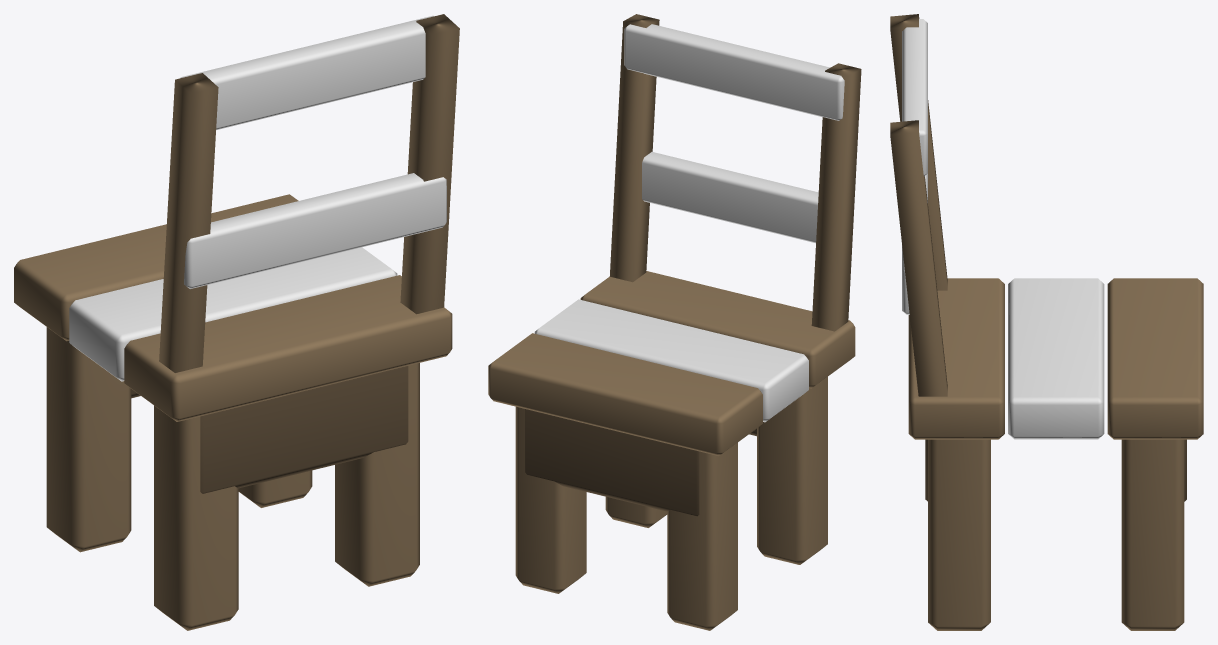
The model's file is WoodChair62.fbx.
3 renders of one model, left to right at view 1: azimuth 30°, elevation 25°; view 2: azimuth 150°, elevation 25°; view 3: azimuth 270°, elevation 25°, orthographic. The views are drawn at different scales.
Visible parts, largest first — view 1: WoodChair62; view 2: WoodChair62; view 3: WoodChair62.
Part boxes in pixels (box(x1,y1,x2,y2)): WoodChair62: box(14, 14, 459, 630); WoodChair62: box(488, 14, 861, 630); WoodChair62: box(890, 14, 1203, 630).
Size of the model in its own units: 56 by 107 by 59.94.
